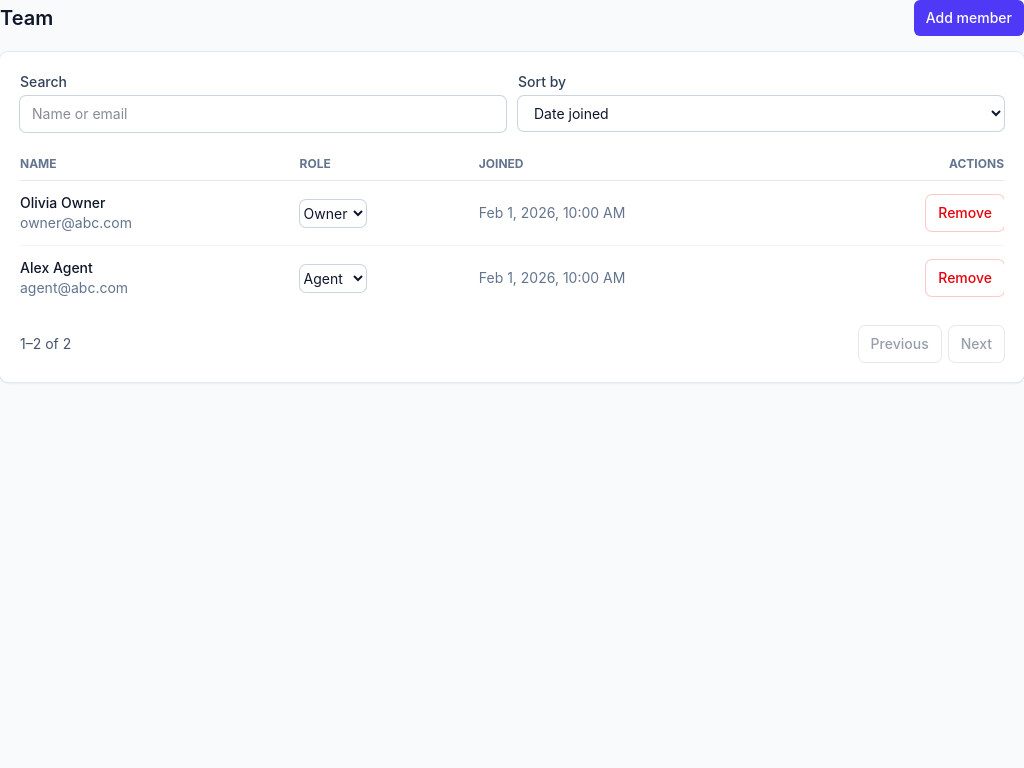
Test case: TeamView › adds a member through the dialog and sends the chosen role
The width and height of the screenshot is (1024, 768).
Expected: the text "Alex Agent" is shown, [20,259,93,276]
Click the button "Add member" at (969, 18), box [914,0,1023,36]
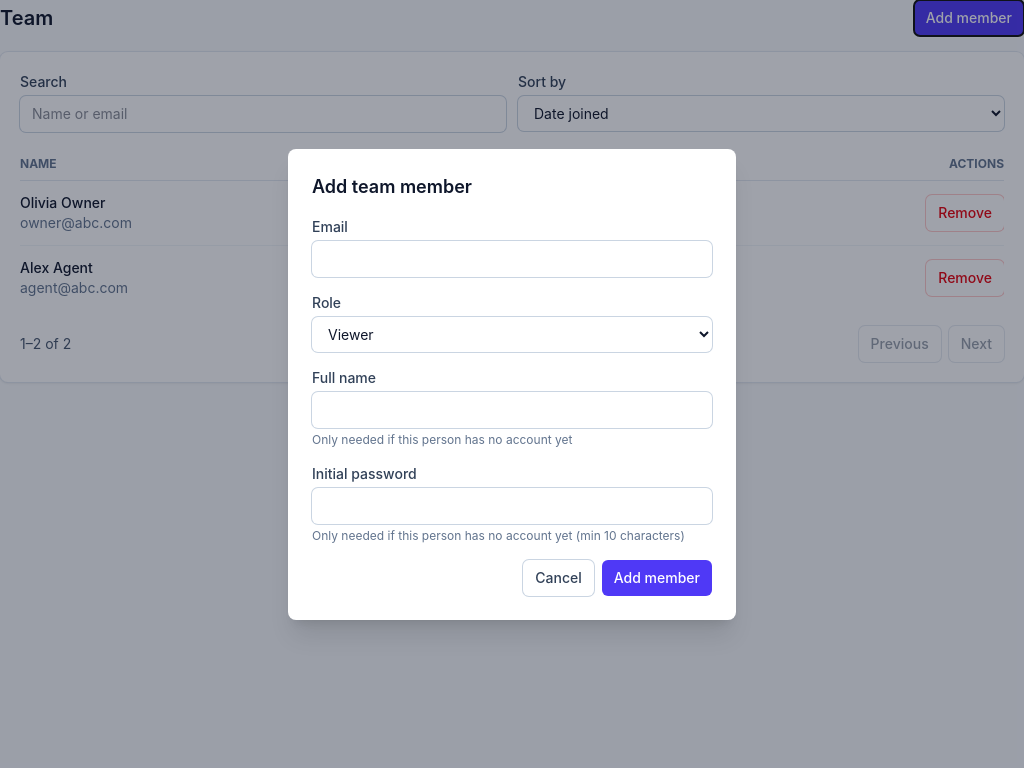
Type "new@abc.com" into the field labelled "Email" at (512, 258), box [312,240,712,276]
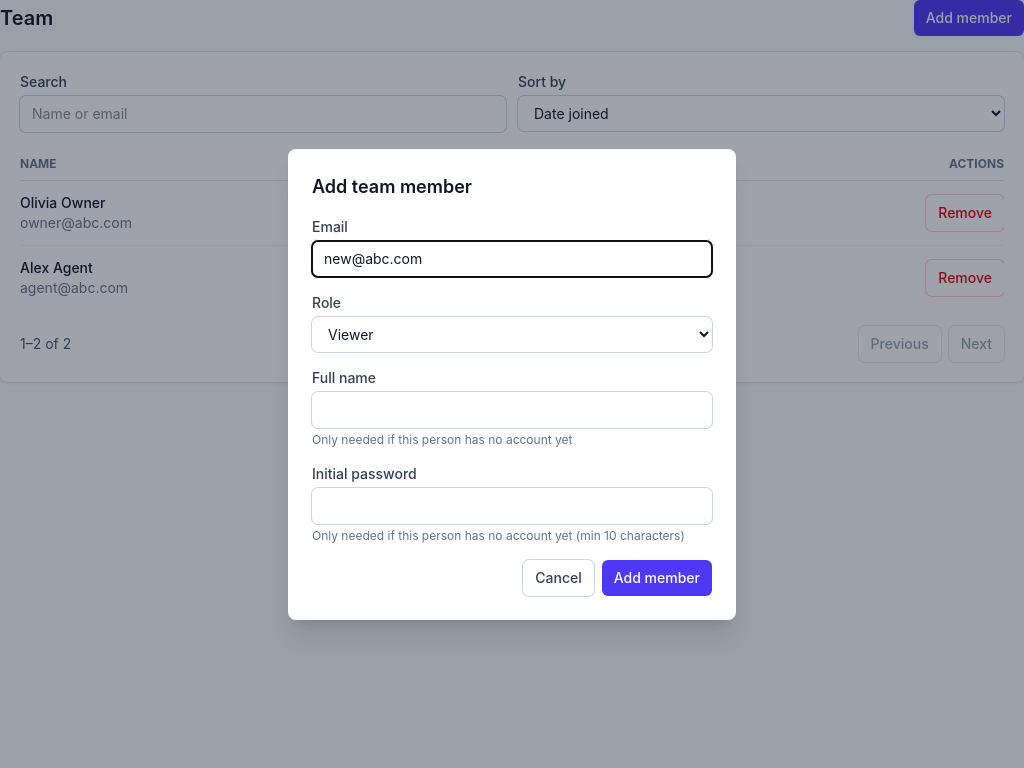
Select "Admin" in the dropdown labelled "Role" at (512, 334), box [312,316,712,352]
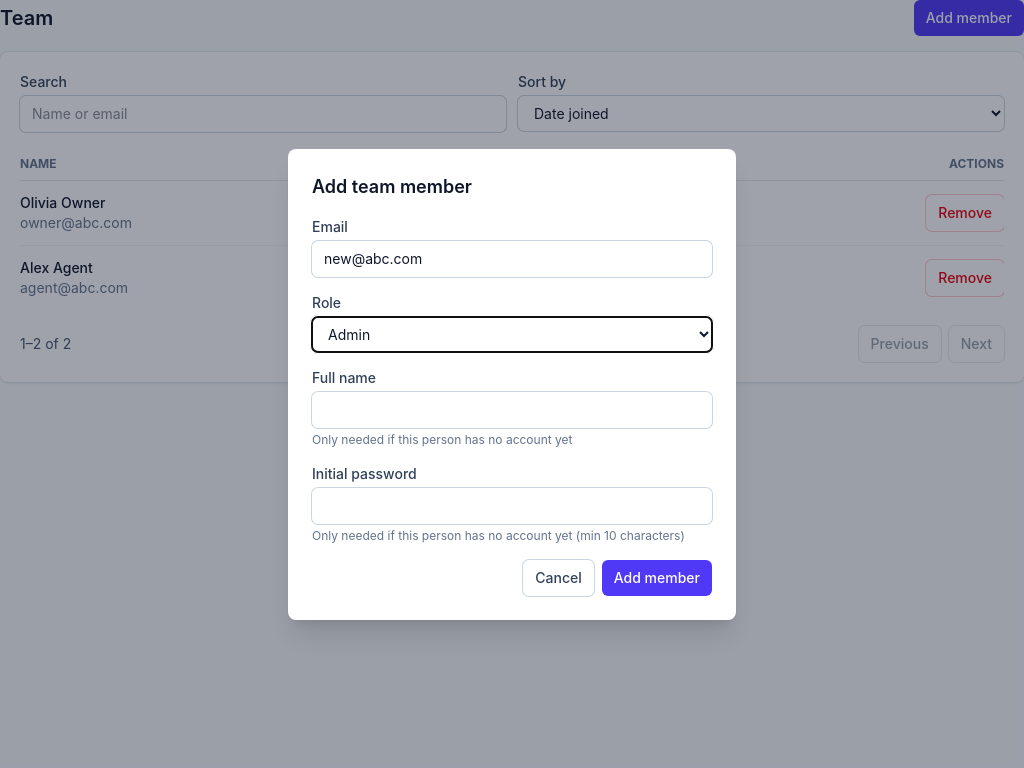
Type "New Person" into the field labelled "Full name" at (512, 410), box [312,392,712,428]
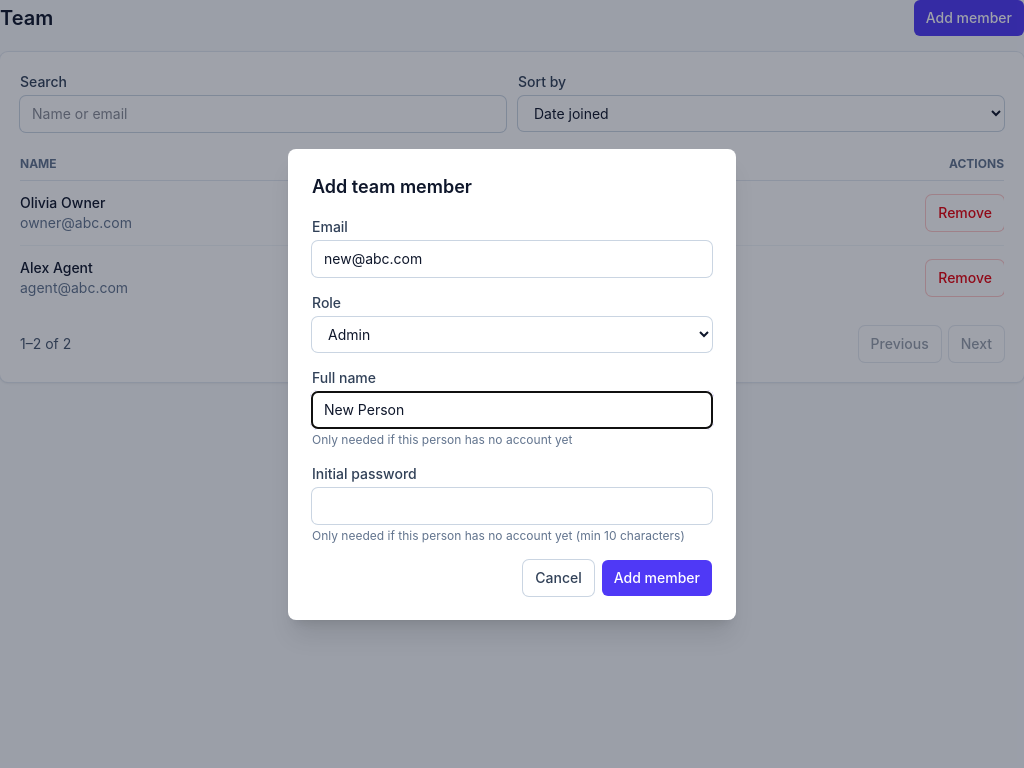
Type "long-enough-pass" into the password field labelled "Initial password" at (512, 506), box [312,488,712,524]
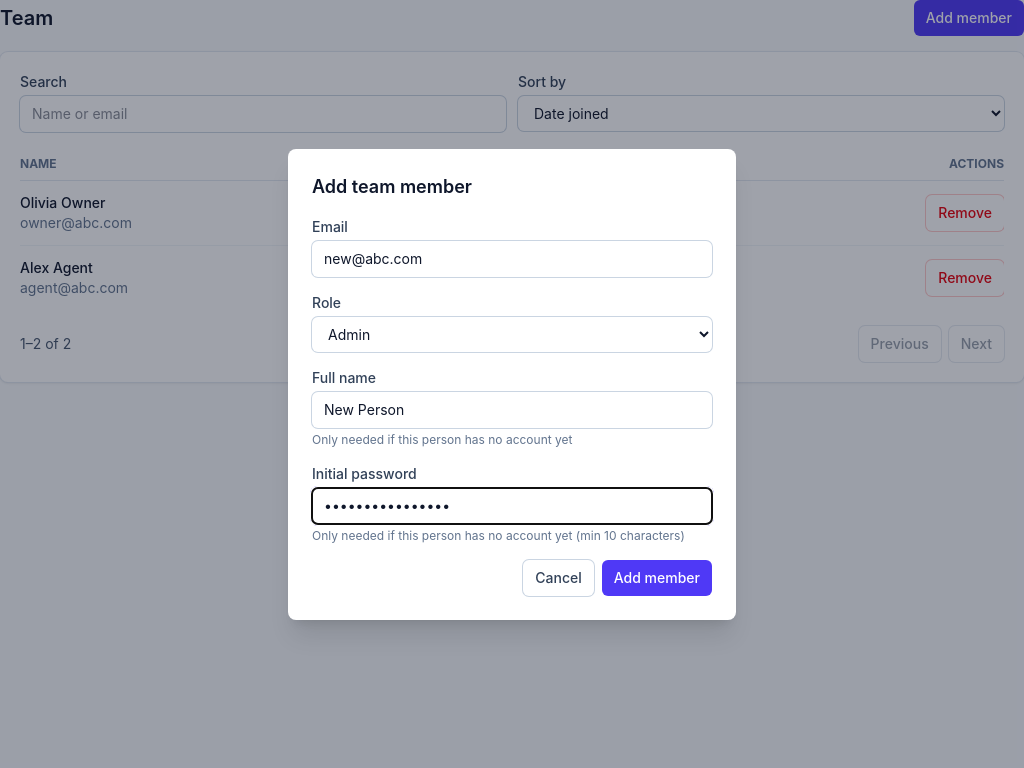
Click the button "Add member" at (657, 578), box [602,560,712,596]
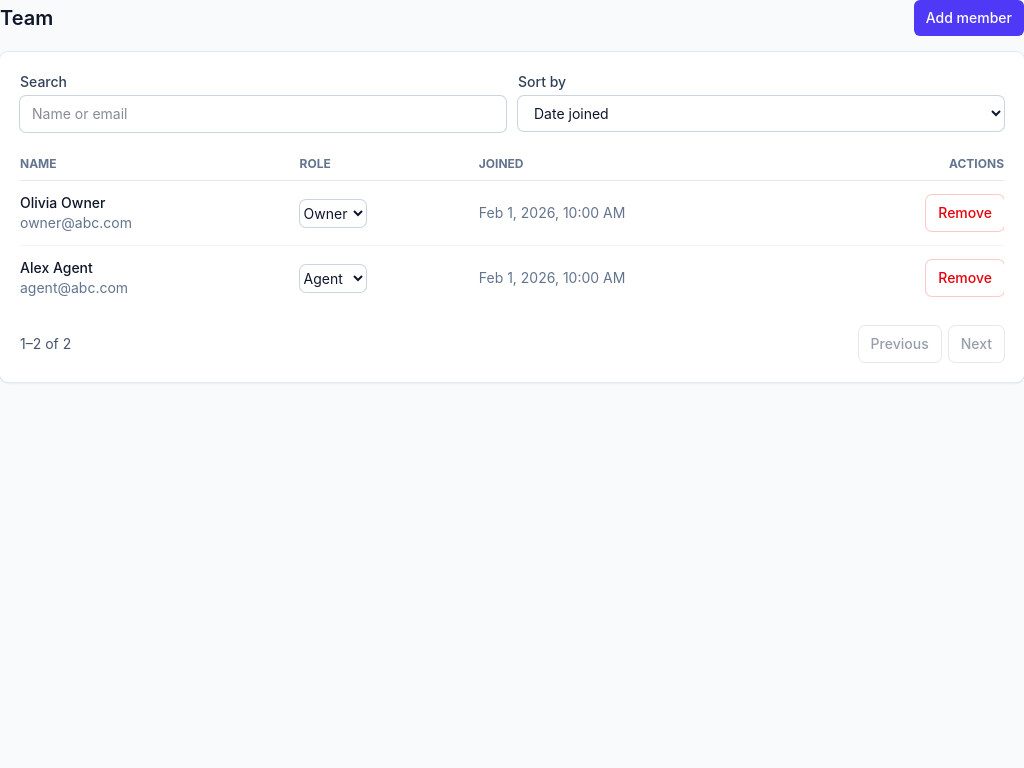
Expected: the dialog is gone
